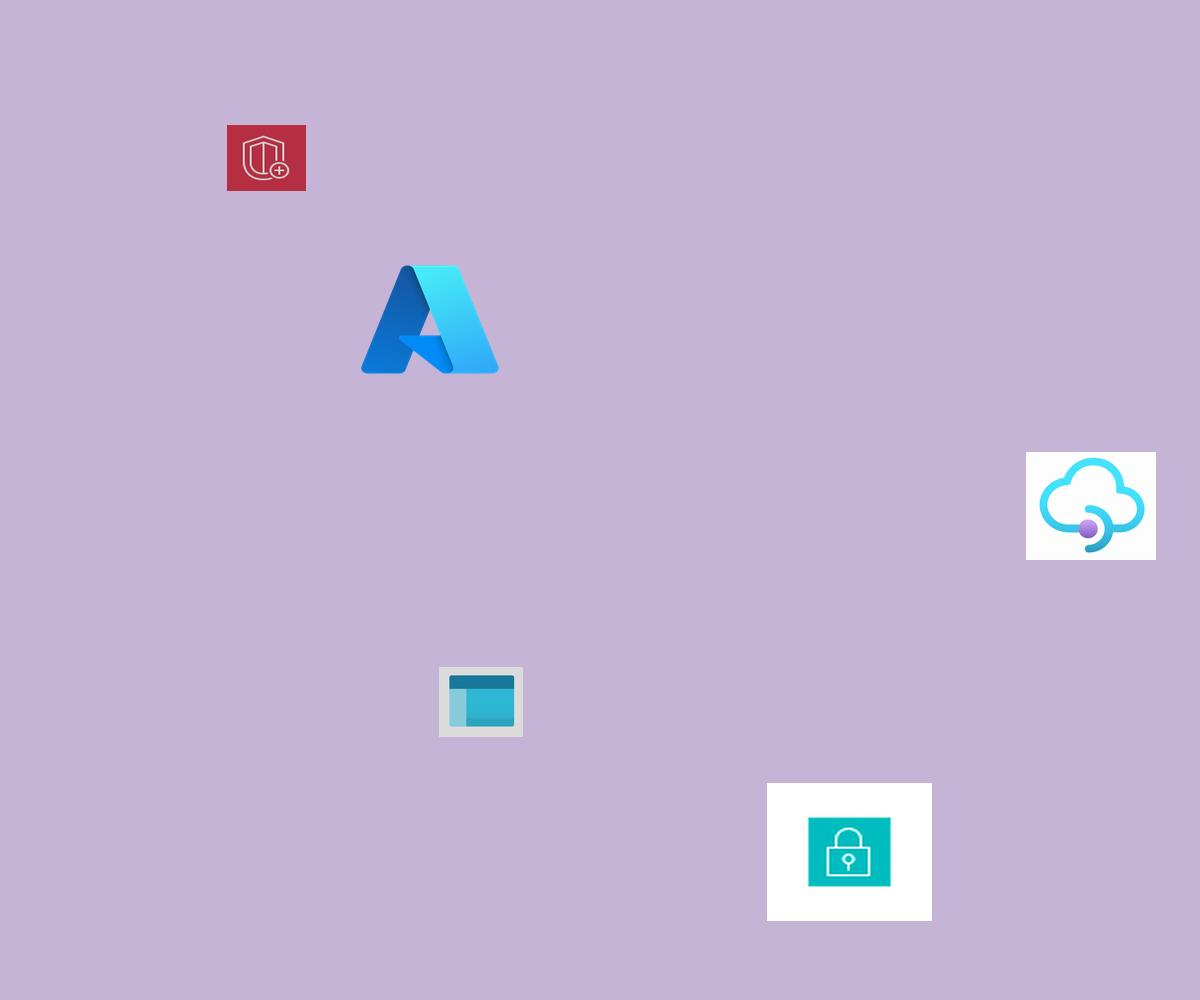AWS-Private-subnet: (767, 783, 932, 921)
AWS-Shield: (227, 125, 306, 191)
Azure_api_gateway: (1026, 452, 1156, 560)
Azure_management-portal: (439, 667, 523, 737)
Azure_services: (355, 257, 505, 382)
